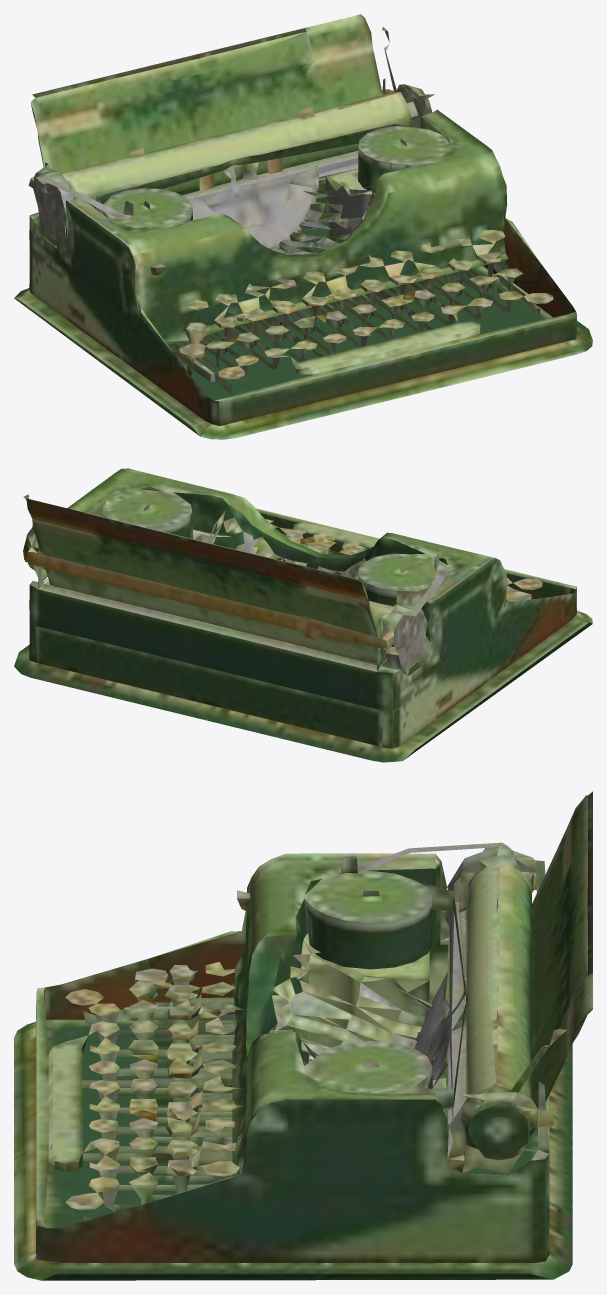
Rendered from mint_typewriter.glb.
The picture shows the model from 3 angles, top to bottom: view 1: azimuth 30°, elevation 25°; view 2: azimuth 150°, elevation 25°; view 3: azimuth 270°, elevation 25°; orthographic projection. The views are drawn at different scales.
Visible parts, largest first — view 1: static; view 2: static; view 3: static.
Part boxes in pixels (left/top/right/bottom): static: left=14, top=14, right=592, bottom=439; static: left=14, top=468, right=592, bottom=762; static: left=14, top=791, right=592, bottom=1280.
Bounding box in the file's own units: 1.12 × 0.5025 × 1.04.
1 material, 1 textured.
